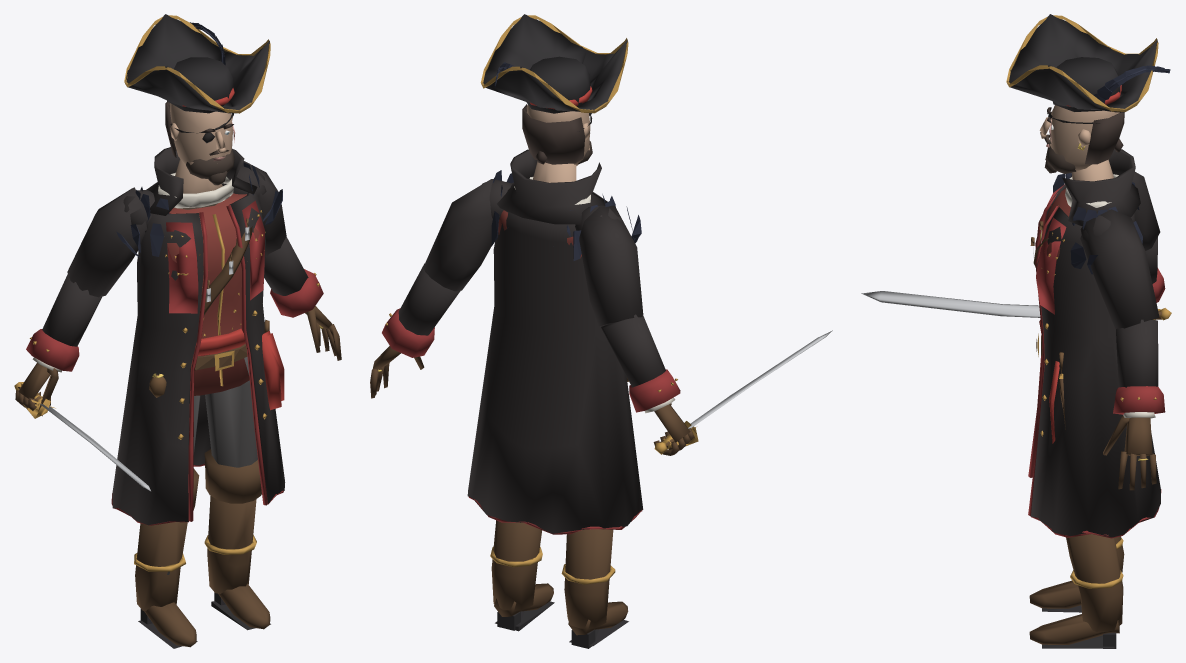
File: hero_0.glb
3 views of the same model, side by side, from view 1: azimuth 30°, elevation 25°; view 2: azimuth 150°, elevation 25°; view 3: azimuth 270°, elevation 25° (orthographic).
Parts seen in each view (by area): view 1: hero_0__OW_Enemy_CaptainRook_MESH_d; view 2: hero_0__OW_Enemy_CaptainRook_MESH_d; view 3: hero_0__OW_Enemy_CaptainRook_MESH_d.
Part boxes in pixels (x1,y1,x2,y2): hero_0__OW_Enemy_CaptainRook_MESH_d: (14,14,341,648); hero_0__OW_Enemy_CaptainRook_MESH_d: (370,14,832,648); hero_0__OW_Enemy_CaptainRook_MESH_d: (861,14,1171,648).
Size of the model in its own units: 1.22 by 2.12 by 1.01.
